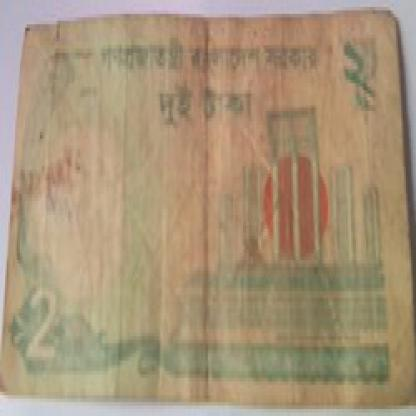two taka: (155, 80, 253, 138), (25, 270, 57, 385), (340, 42, 366, 108)
